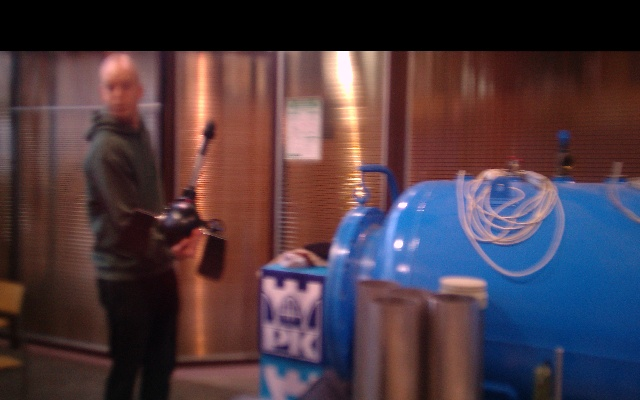black: (189, 154, 208, 187)
